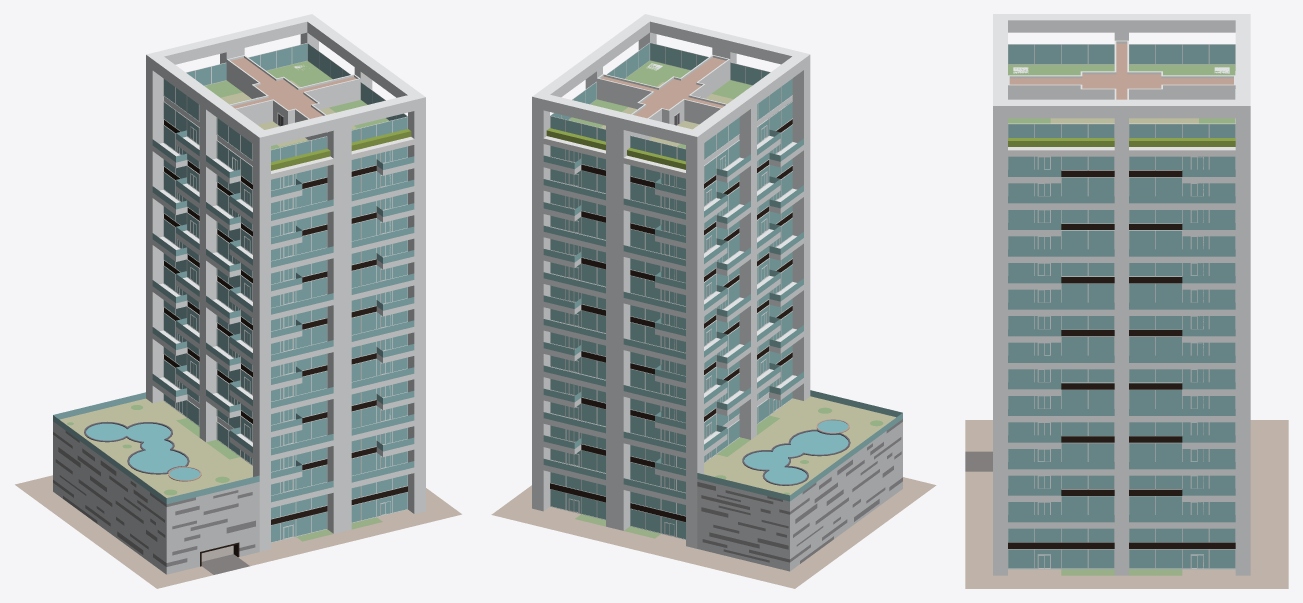
The model's file is adriana.glb.
3 views of the same model, side by side, from view 1: azimuth 30°, elevation 25°; view 2: azimuth 150°, elevation 25°; view 3: azimuth 270°, elevation 25° (orthographic). The views are drawn at different scales.
Visible parts, largest first — view 1: Mesh1_FrontColor_0; view 2: Mesh1_FrontColor_0; view 3: Mesh1_FrontColor_0.
Part boxes in pixels (bbox=[...]): Mesh1_FrontColor_0: bbox=[15, 14, 461, 588]; Mesh1_FrontColor_0: bbox=[491, 14, 936, 588]; Mesh1_FrontColor_0: bbox=[965, 14, 1288, 588].
Size of the model in its own units: 0.5404 by 0.7004 by 0.4369.
Materials: 1 (1 with a texture image).
